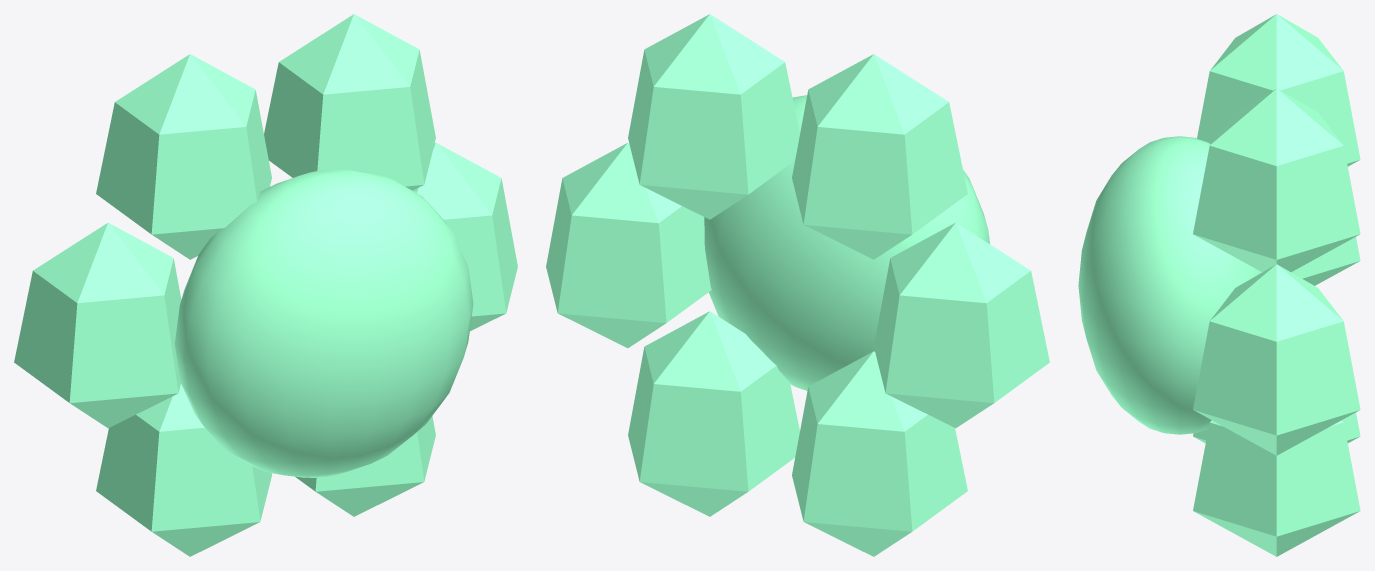
The model's file is ore-12.glb.
The picture shows the model from 3 angles, left to right: view 1: azimuth 30°, elevation 25°; view 2: azimuth 150°, elevation 25°; view 3: azimuth 270°, elevation 25°; orthographic projection. The views are drawn at different scales.
Parts seen in each view (by area): view 1: Einsteinium luminous core, Einsteinium radial crystal.003, Einsteinium radial crystal.002, Einsteinium radial crystal.001, Einsteinium radial crystal.004, Einsteinium radial crystal, Einsteinium radial crystal.005; view 2: Einsteinium luminous core, Einsteinium radial crystal.002, Einsteinium radial crystal.003, Einsteinium radial crystal.001, Einsteinium radial crystal.005, Einsteinium radial crystal.004, Einsteinium radial crystal; view 3: Einsteinium luminous core, Einsteinium radial crystal, Einsteinium radial crystal.001, Einsteinium radial crystal.005, Einsteinium radial crystal.002, Einsteinium radial crystal.003, Einsteinium radial crystal.004.
Boxes of the visible parts, x1=… form: Einsteinium luminous core: x1=174, y1=169, x2=473, y2=477; Einsteinium radial crystal.003: x1=14, y1=222, x2=181, y2=428; Einsteinium radial crystal.002: x1=96, y1=54, x2=271, y2=259; Einsteinium radial crystal.001: x1=264, y1=14, x2=435, y2=190; Einsteinium radial crystal.004: x1=96, y1=384, x2=271, y2=556; Einsteinium radial crystal: x1=413, y1=143, x2=517, y2=331; Einsteinium radial crystal.005: x1=295, y1=416, x2=435, y2=516; Einsteinium luminous core: x1=704, y1=95, x2=989, y2=390; Einsteinium radial crystal.002: x1=792, y1=54, x2=967, y2=259; Einsteinium radial crystal.003: x1=874, y1=222, x2=1049, y2=428; Einsteinium radial crystal.001: x1=628, y1=14, x2=799, y2=219; Einsteinium radial crystal.005: x1=628, y1=311, x2=799, y2=516; Einsteinium radial crystal.004: x1=792, y1=351, x2=967, y2=556; Einsteinium radial crystal: x1=546, y1=143, x2=711, y2=348; Einsteinium luminous core: x1=1078, y1=136, x2=1261, y2=434; Einsteinium radial crystal: x1=1193, y1=264, x2=1360, y2=455; Einsteinium radial crystal.001: x1=1193, y1=88, x2=1360, y2=272; Einsteinium radial crystal.005: x1=1193, y1=420, x2=1360, y2=556; Einsteinium radial crystal.002: x1=1197, y1=14, x2=1360, y2=166; Einsteinium radial crystal.003: x1=1291, y1=237, x2=1360, y2=285; Einsteinium radial crystal.004: x1=1193, y1=412, x2=1360, y2=443.
Bounding box in the file's own units: 1.16 × 1.17 × 0.6402.
